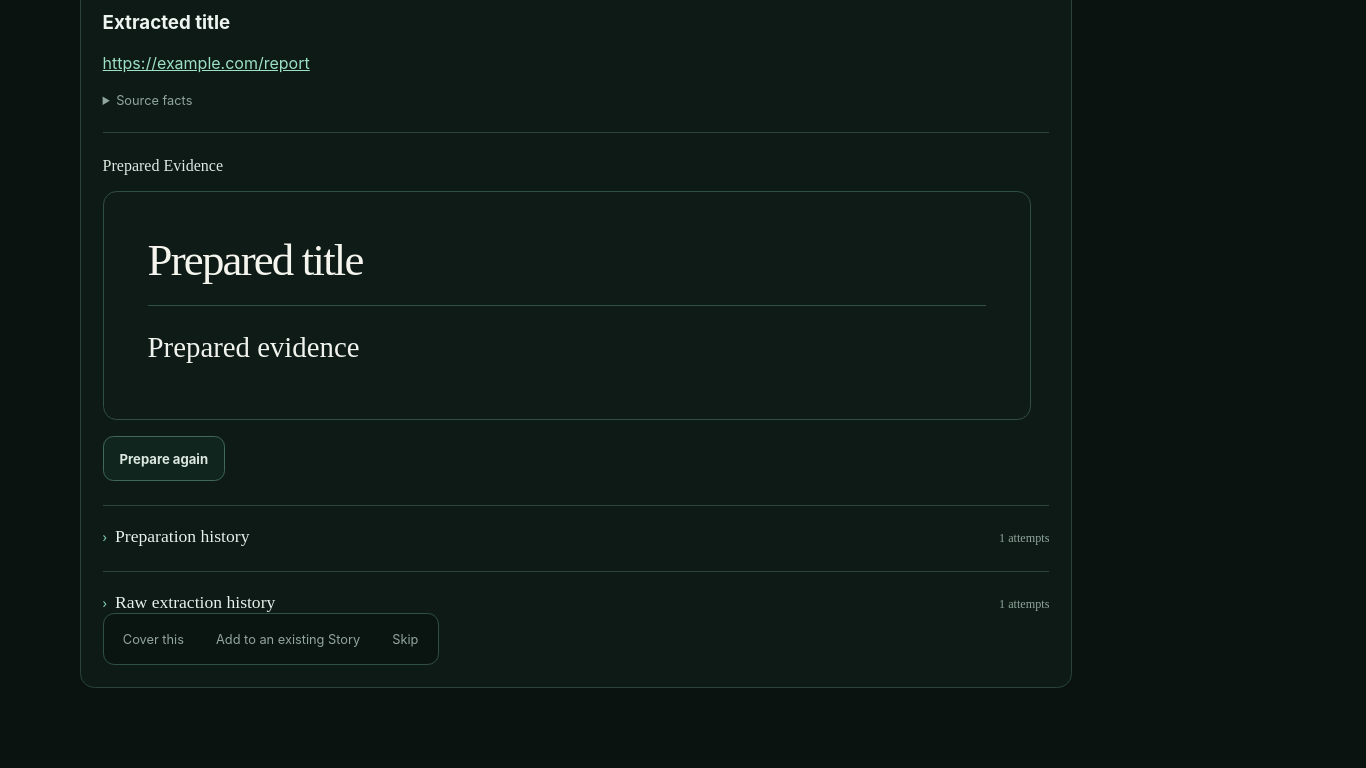
Scenario: SourceInboxWorkspace › says so when the model only read part of the raw extraction
(page scrolled)
What coordinates should you click on to do the following:
click the text "› Preparation history"
I would click on:
 (176, 536)
Its box is [103, 526, 249, 547].
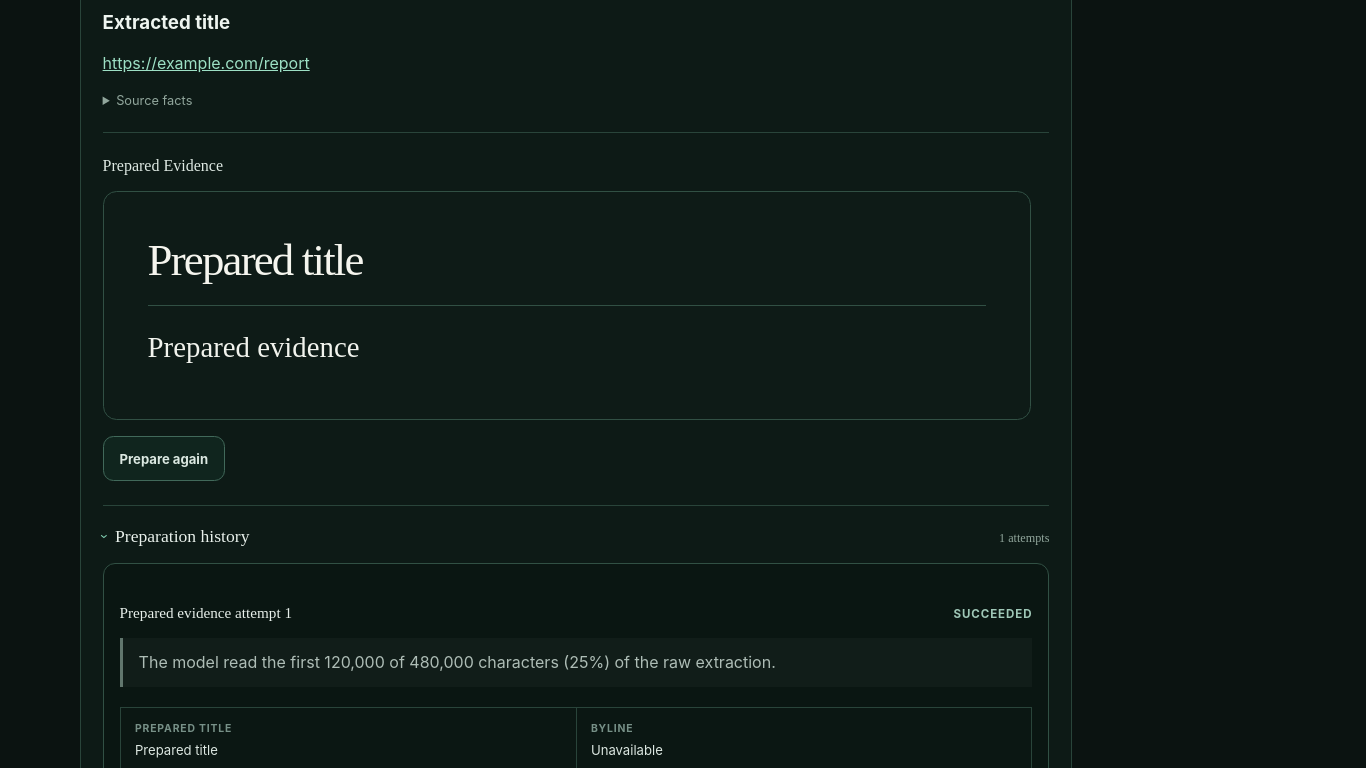
Expected: the text "The model read the first 120,000 of 480,000 characters (25%) of the raw extraction." is shown, [139, 652, 776, 672]
